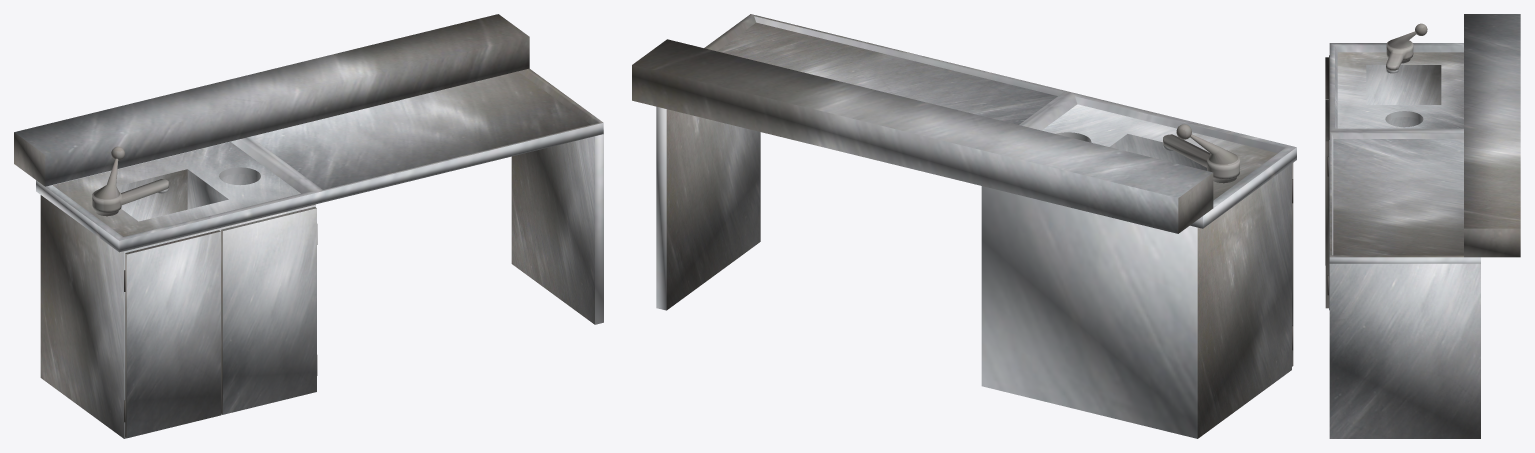
Rendered from DentalSink.obj.
3 views of the same model, side by side, from view 1: azimuth 30°, elevation 25°; view 2: azimuth 150°, elevation 25°; view 3: azimuth 270°, elevation 25° (orthographic). The views are drawn at different scales.
Visible parts, largest first — view 1: DentalSink.obj; view 2: DentalSink.obj; view 3: DentalSink.obj.
Boxes of the visible parts, left/top/right/bottom form: DentalSink.obj: left=14, top=14, right=603, bottom=438; DentalSink.obj: left=632, top=14, right=1296, bottom=438; DentalSink.obj: left=1325, top=14, right=1520, bottom=438.
Size of the model in its own units: 13.44 by 6.48 by 5.16.
